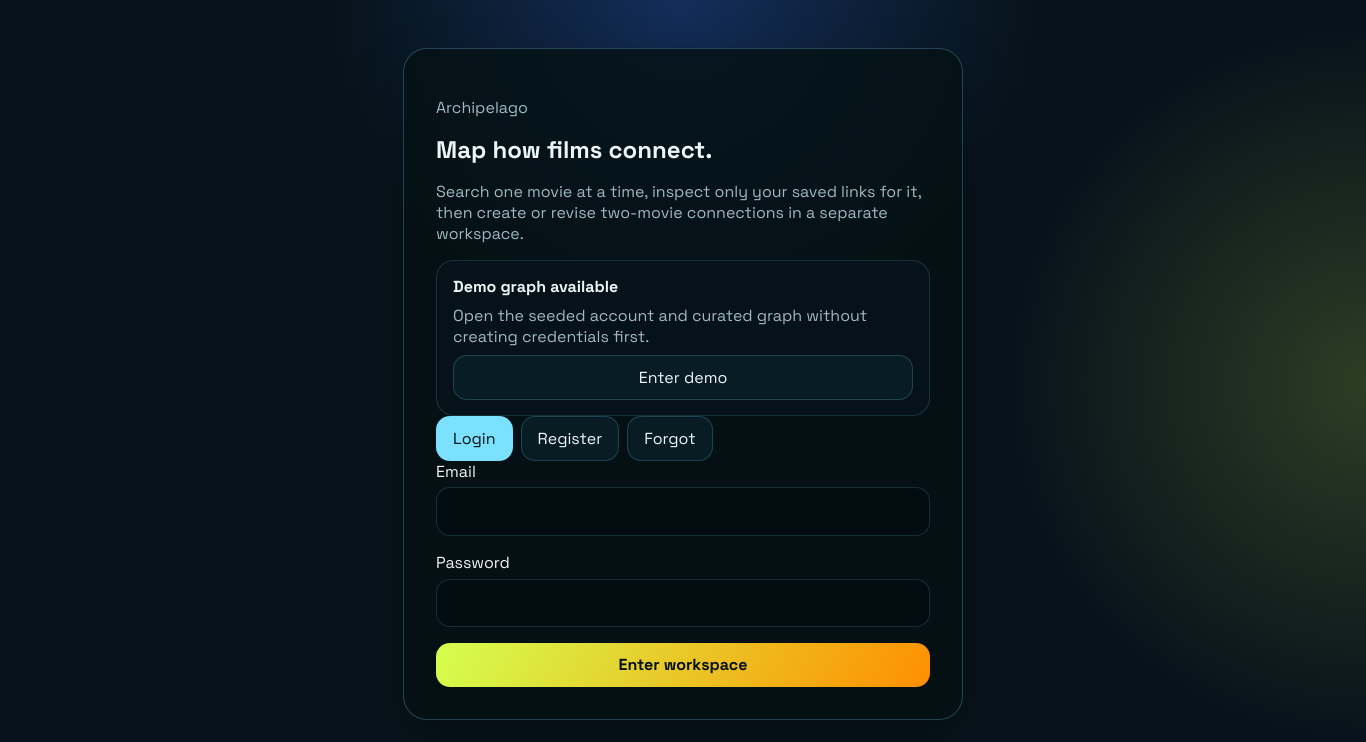
it: App › shows validation feedback on register failures
The width and height of the screenshot is (1366, 742).
Expected: the heading "Map how films connect." is shown, [436,134,712,165]
Click the button "Register". click: (570, 438)
box: [521,416,619,461]
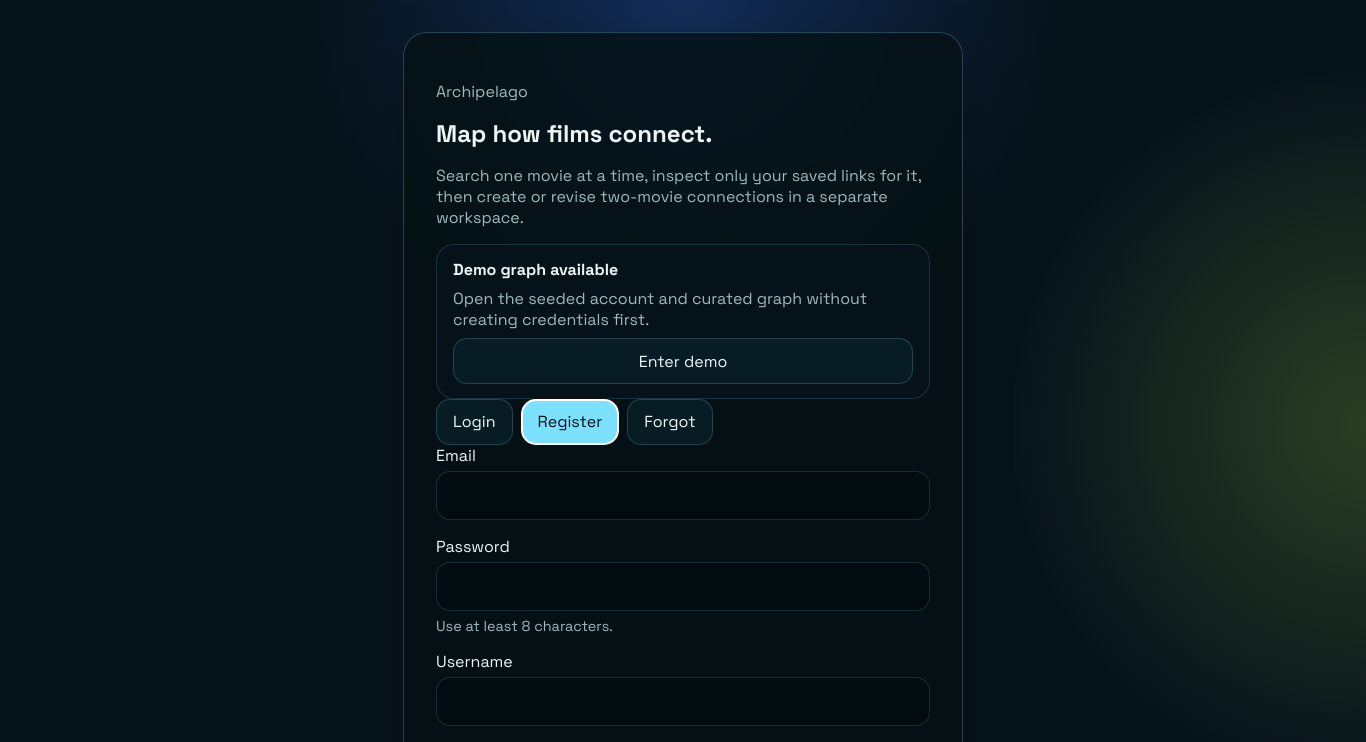
Type "new@example.com" into the field labelled "Email". click: (683, 495)
box: [436,471,930,520]
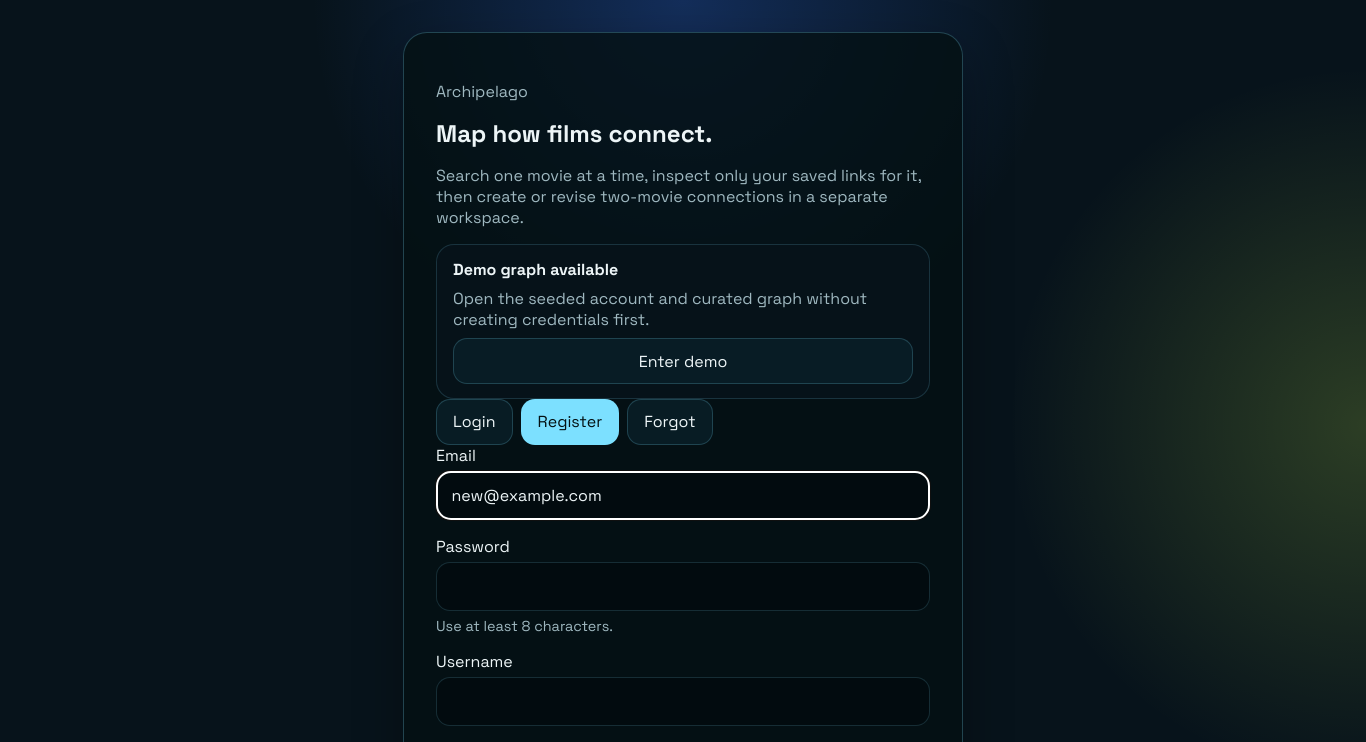
Type "short" into the password field labelled "Password Use at least 8 characters.". click: (683, 587)
box: [436,562,930,611]
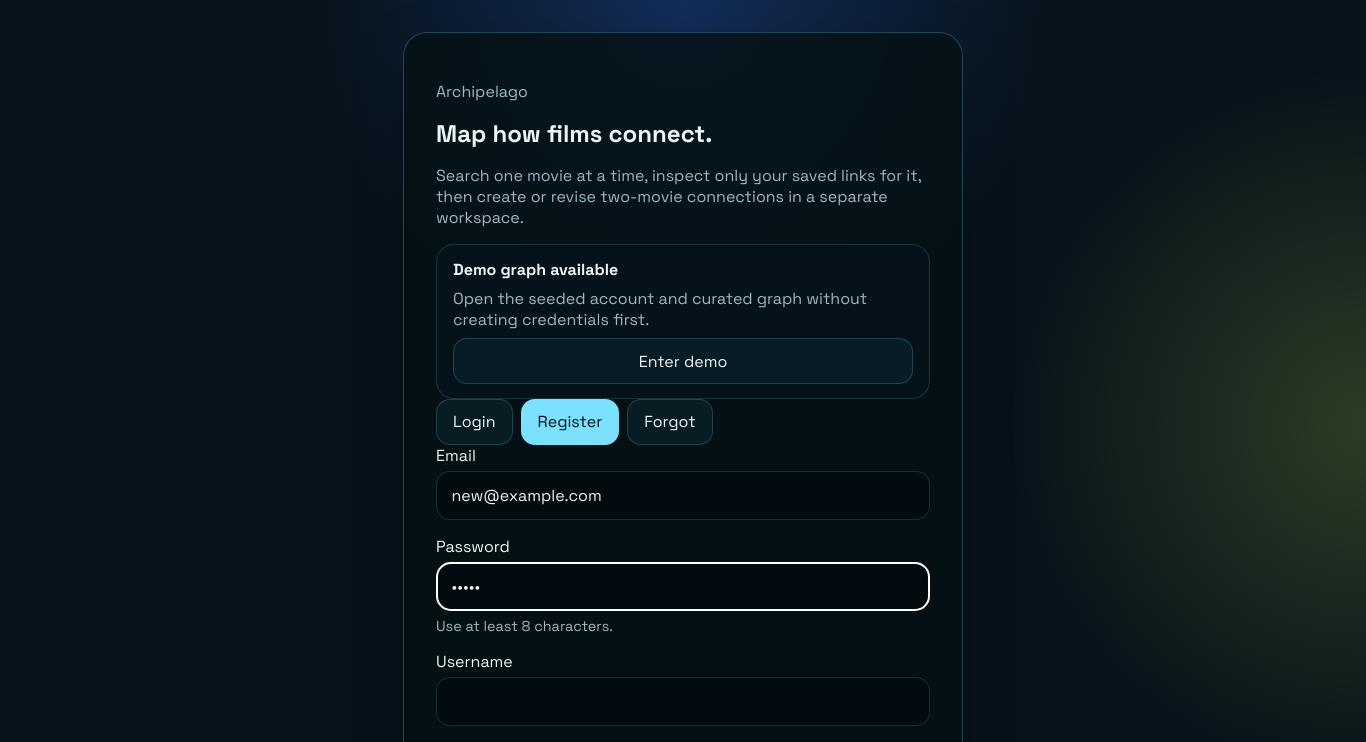
Type "new-user" into the field labelled "Username". click: (683, 701)
box: [436,677,930,726]
(page scrolled)
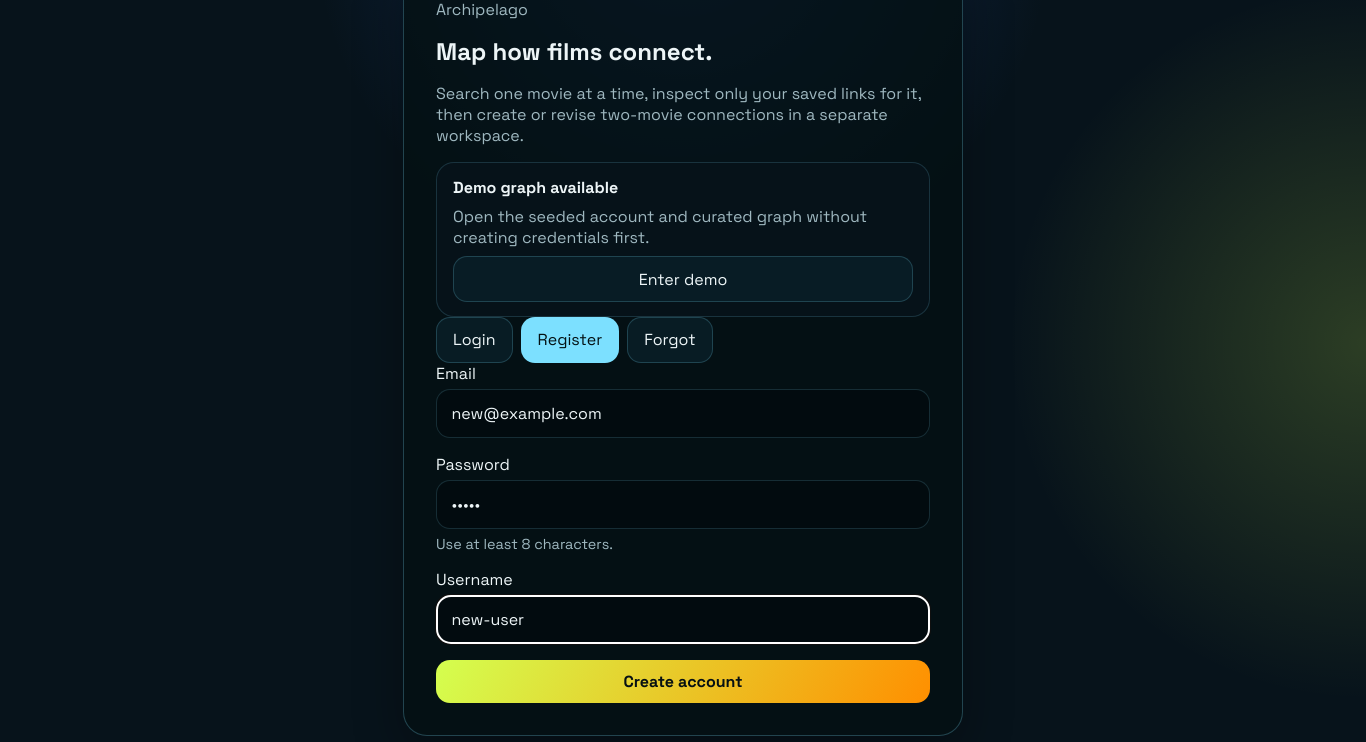
Click the button "Create account". click: (683, 681)
box: [436,660,930,703]
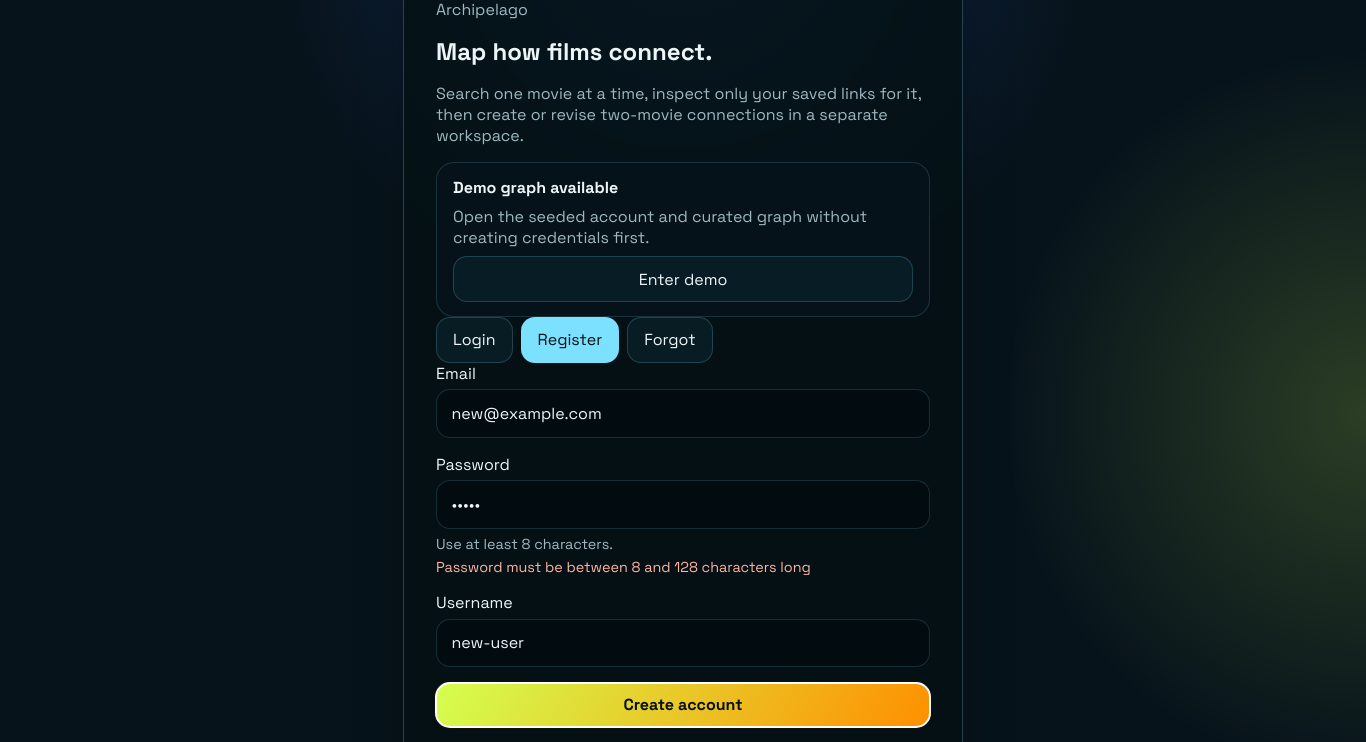
Now the text "Password must be between 8 and 128 characters long" is shown, box [436,558,811,576]
